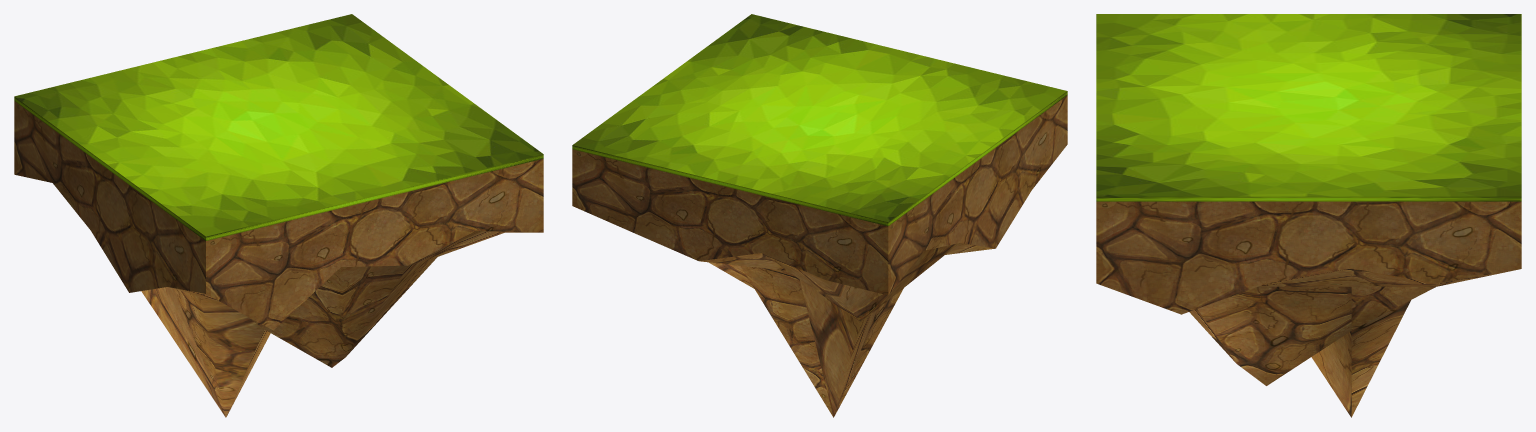
The model's file is Platform.fbx.
3 renders of one model, left to right at view 1: azimuth 30°, elevation 25°; view 2: azimuth 150°, elevation 25°; view 3: azimuth 270°, elevation 25°, orthographic. The views are drawn at different scales.
Parts seen in each view (by area): view 1: Box003, Box002; view 2: Box003, Box002; view 3: Box003, Box002.
Boxes of the visible parts, x1,y1,x2,y2 form: Box003: (14,14,543,240); Box002: (14,101,543,417); Box003: (572,14,1067,226); Box002: (572,95,1067,417); Box003: (1096,14,1521,201); Box002: (1096,201,1521,417).
Size of the model in its own units: 101 by 85.01 by 98.96.
Materials: 2 (2 with a texture image).
